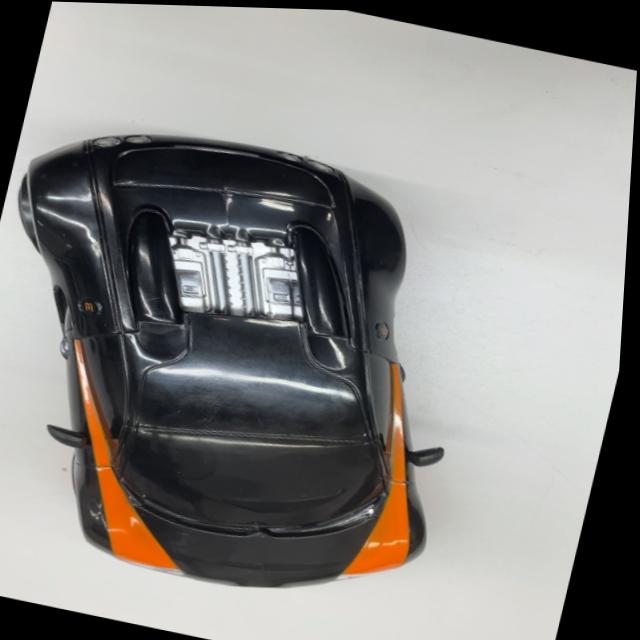vehicle_body: (0, 105, 516, 631)
